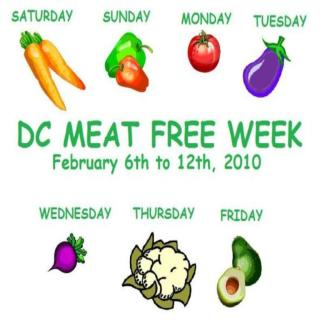tomato: (188, 27, 225, 65)
